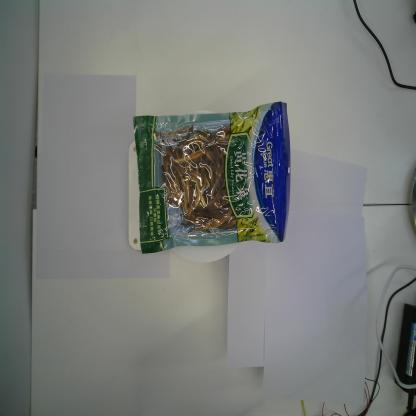Dried Food: (129, 101, 292, 256)
